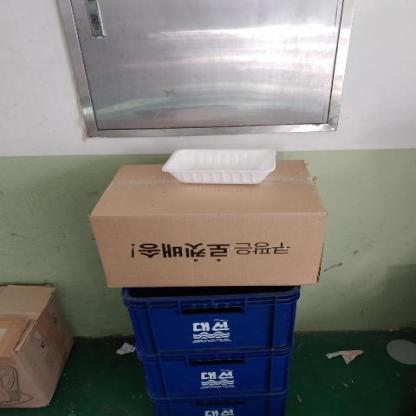Glass Cup: (164, 148, 278, 185), (162, 149, 276, 184)
